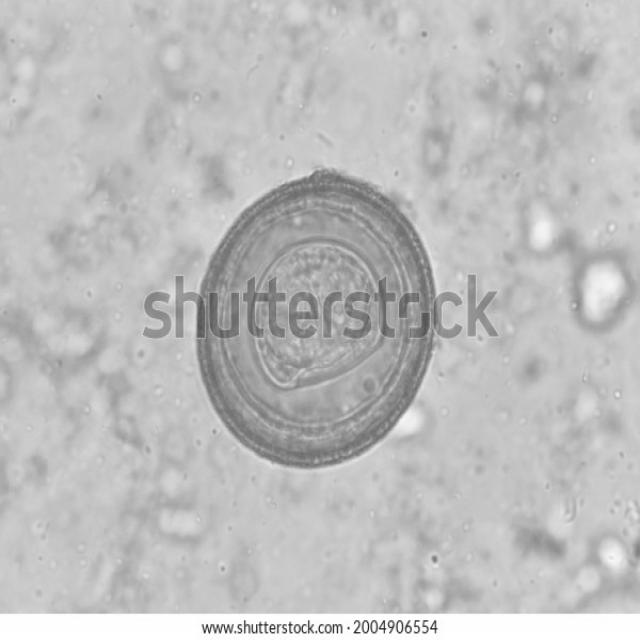Ascaris Lumbricoides: (190, 167, 441, 481)
